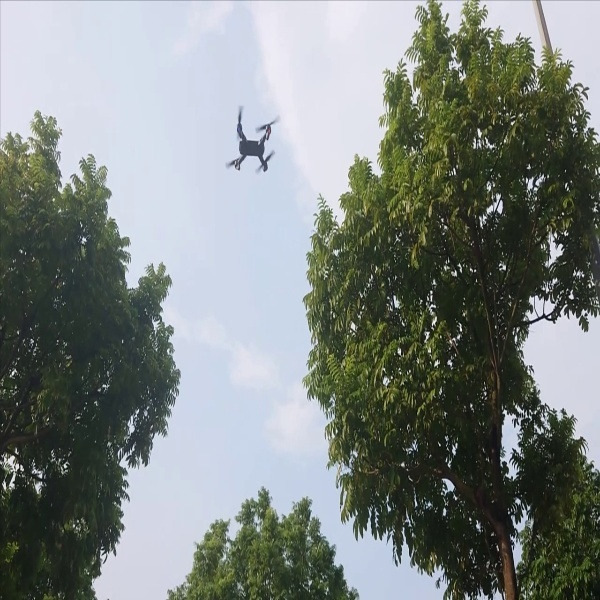drone: (213, 95, 283, 176)
